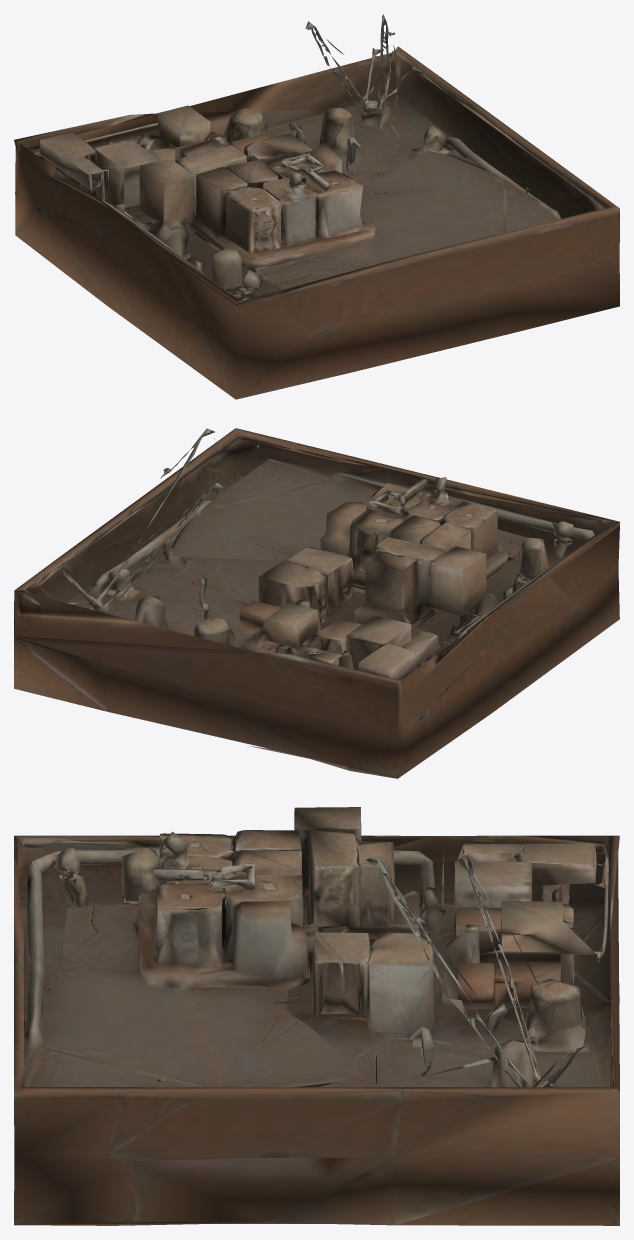
The model's file is p_supply_depot.glb.
3 views of the same model, one above another, from view 1: azimuth 30°, elevation 25°; view 2: azimuth 150°, elevation 25°; view 3: azimuth 270°, elevation 25° (orthographic). The views are drawn at different scales.
Bounding box in the file's own units: 1.9 × 1.04 × 1.9.
1 material, 1 textured.
